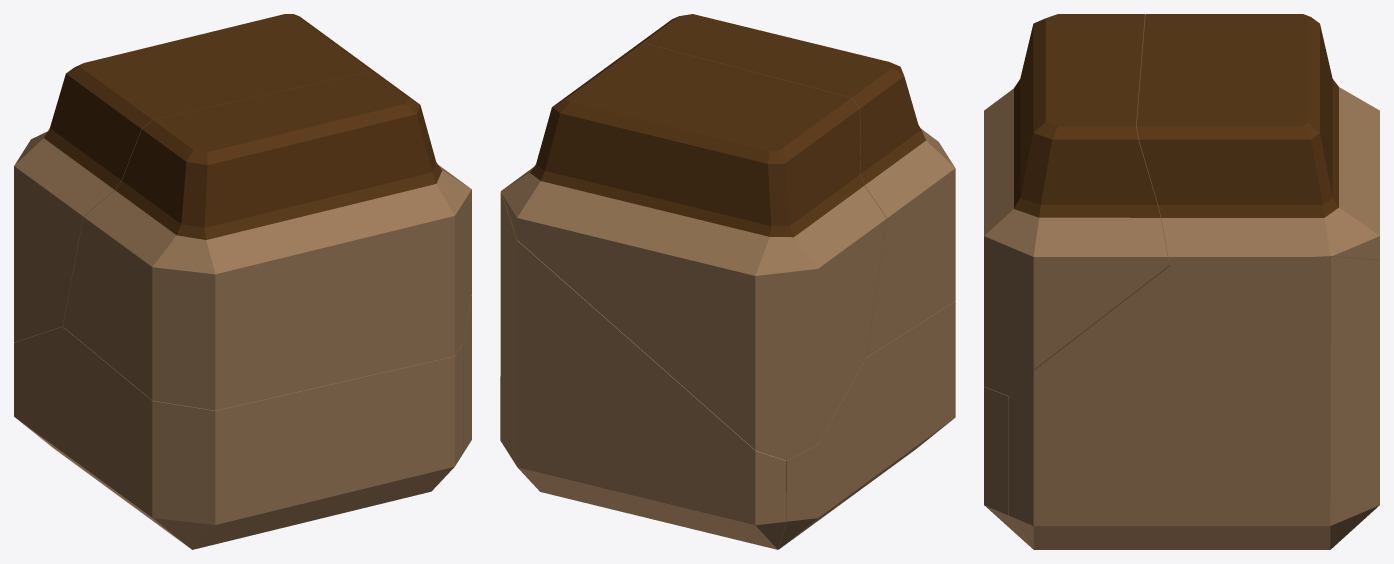
File: BrokenItem1.fbx
3 renders of one model, left to right at view 1: azimuth 30°, elevation 25°; view 2: azimuth 150°, elevation 25°; view 3: azimuth 270°, elevation 25°, orthographic. The views are drawn at different scales.
Parts seen in each view (by area): view 1: Item1_cell.003, Item1_cell.001, Item1_cell, Item1_cell.002; view 2: Item1_cell, Item1_cell.002, Item1_cell.003, Item1_cell.001; view 3: Item1_cell.002, Item1_cell, Item1_cell.003, Item1_cell.001.
Boxes of the visible parts, x1,y1,x2,y2 form: Item1_cell.003: (63,71,471,410); Item1_cell.001: (14,327,463,549); Item1_cell: (14,14,378,342); Item1_cell.002: (463,295,471,452); Item1_cell: (501,43,886,460); Item1_cell.002: (500,192,786,549); Item1_cell.003: (632,14,955,357); Item1_cell.001: (778,301,955,549); Item1_cell.002: (1009,256,1379,549); Item1_cell: (1136,14,1379,264); Item1_cell.003: (984,14,1171,395); Item1_cell.001: (984,386,1033,549).
Size of the model in its own units: 144 by 167 by 144.
